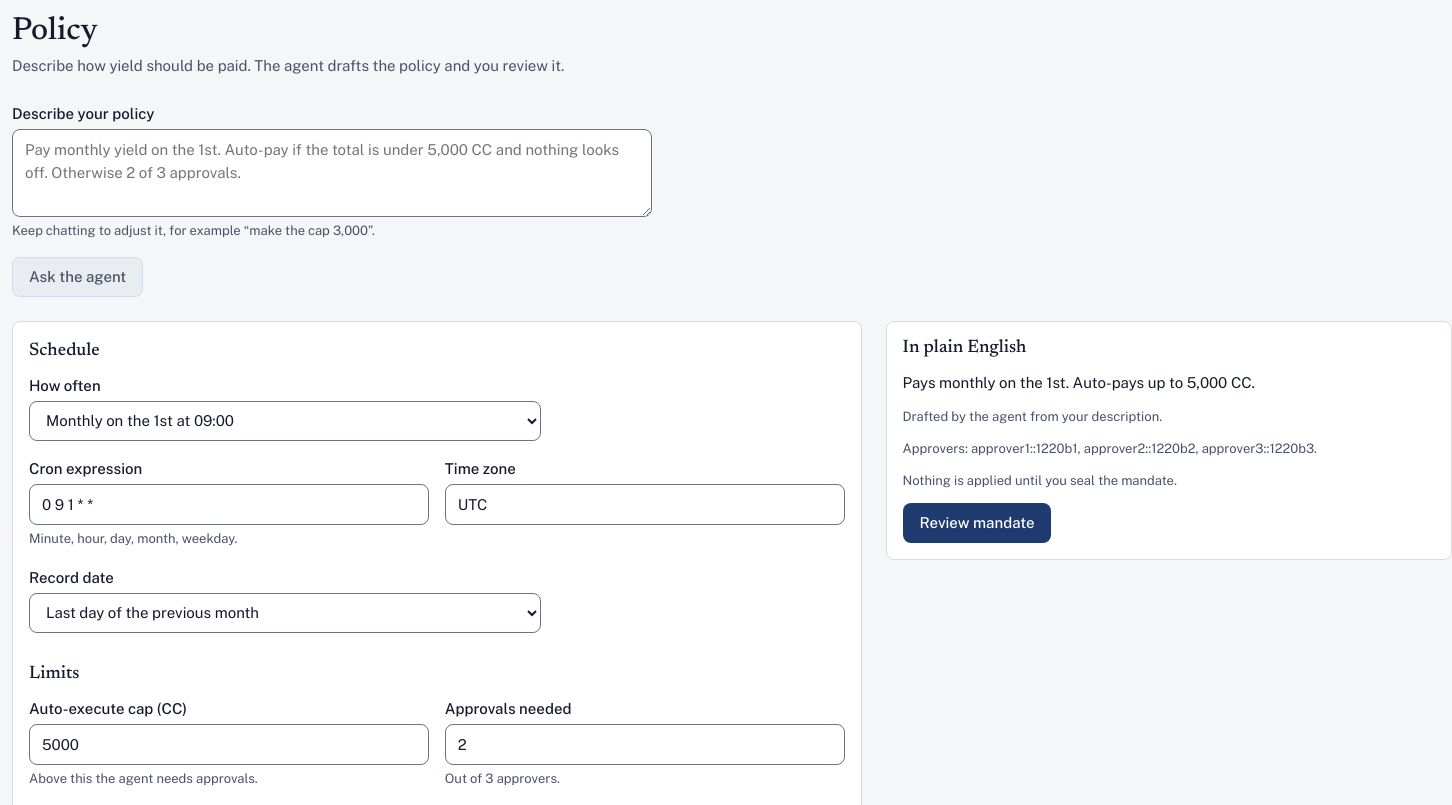
setup policy page › shows the 503 message and keeps the form usable when the model is unavailable
The width and height of the screenshot is (1452, 805).
Replace the text in the text box labelled "Describe your policy" with "pay monthly" at (332, 173), box [12, 129, 652, 217]
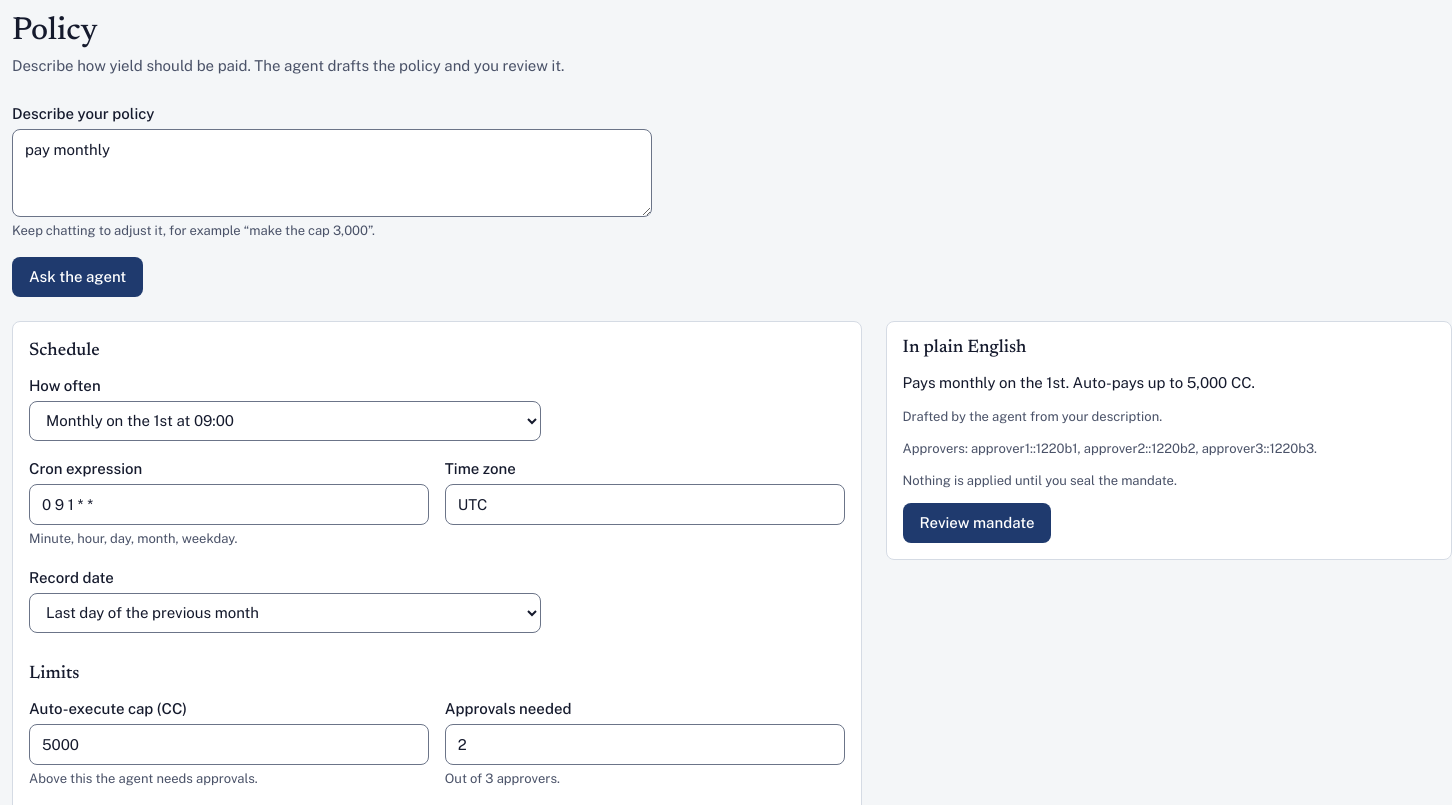
Click the button "Ask the agent".
click(78, 277)  # box [12, 257, 143, 297]
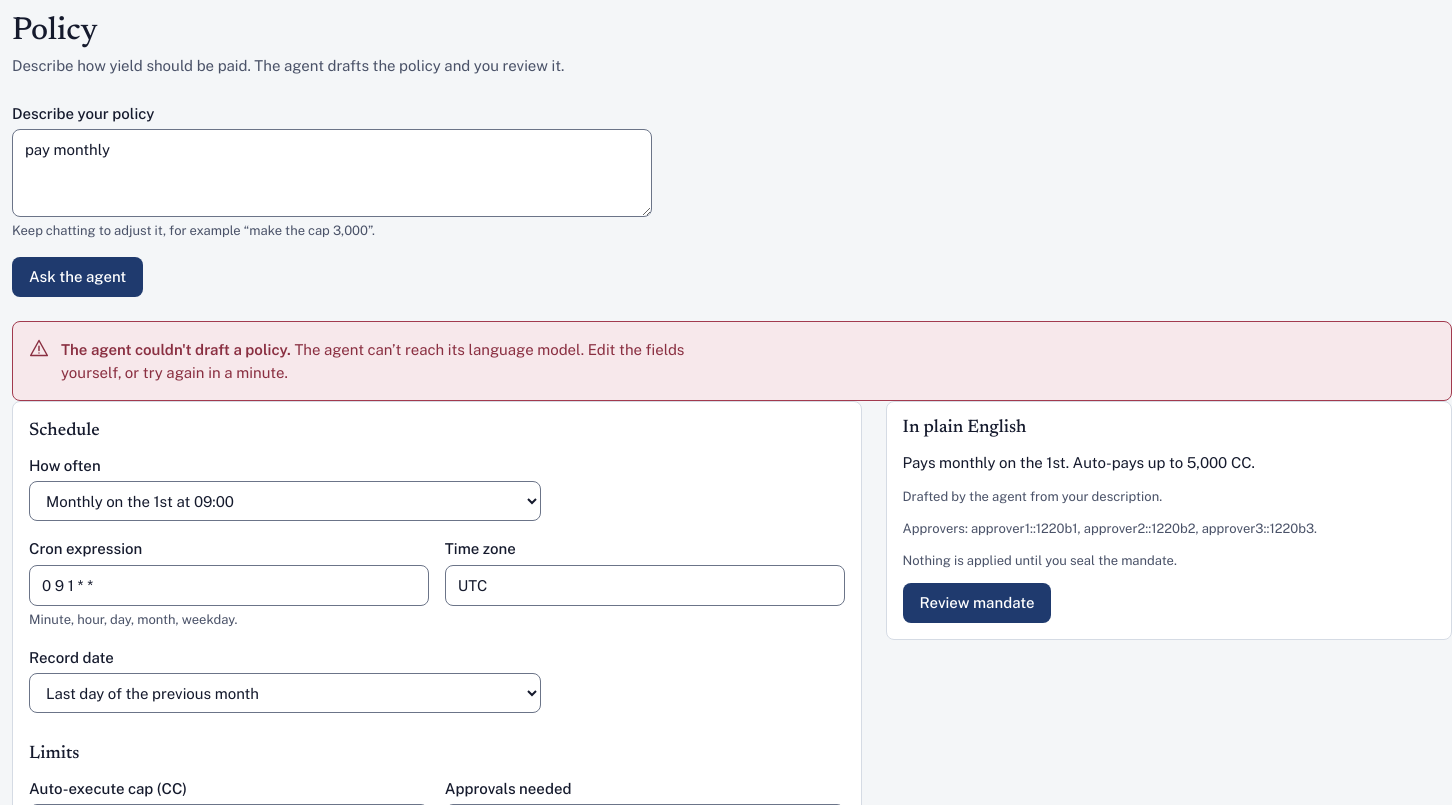
Check: the text box labelled "Describe your policy" is enabled, box [12, 129, 652, 217]
Check: the text "can’t reach its language model" is shown, box [61, 341, 684, 381]
